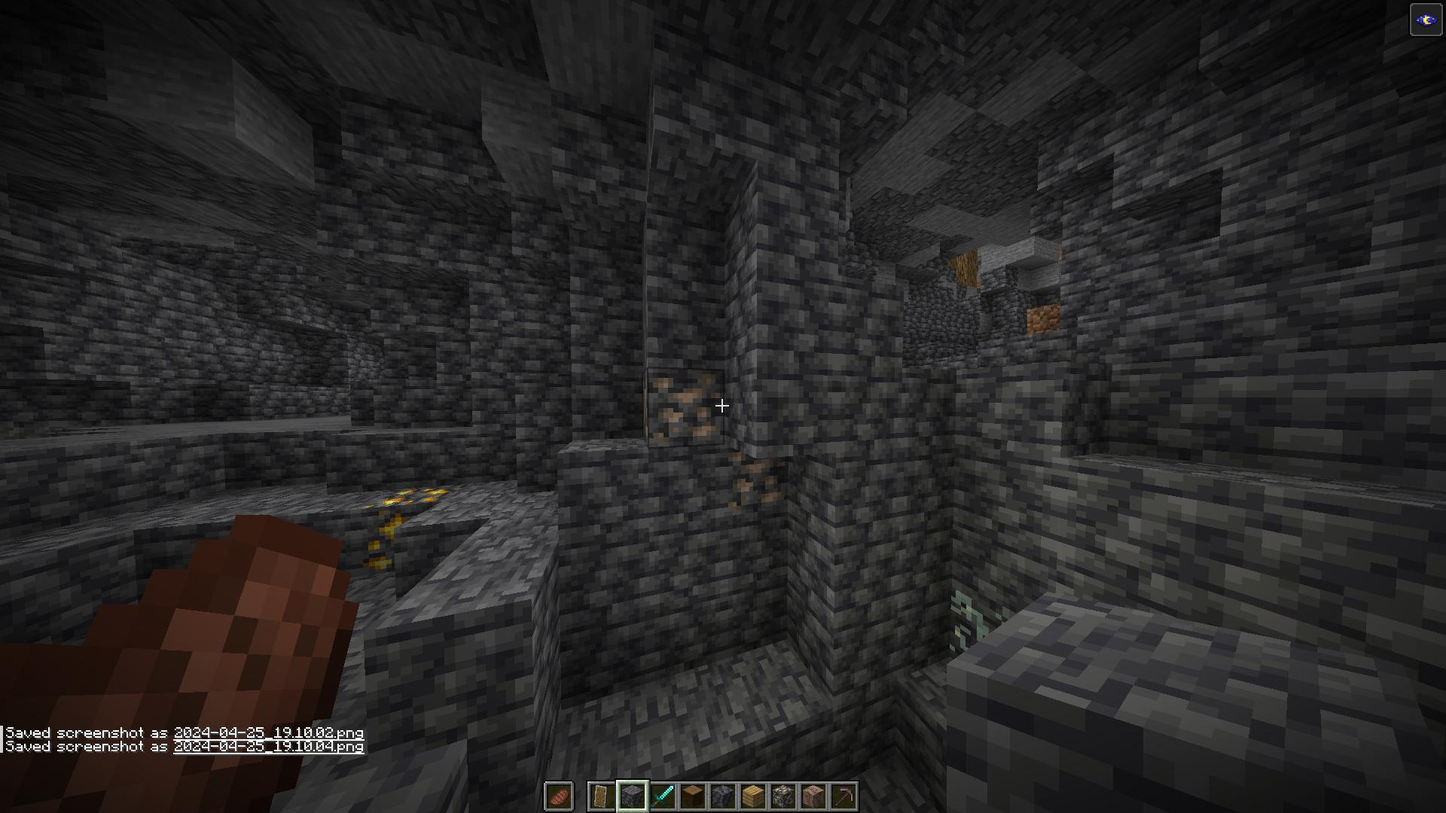gold ore: (364, 484, 455, 576)
iron ore: (643, 366, 729, 444), (724, 452, 794, 505)
